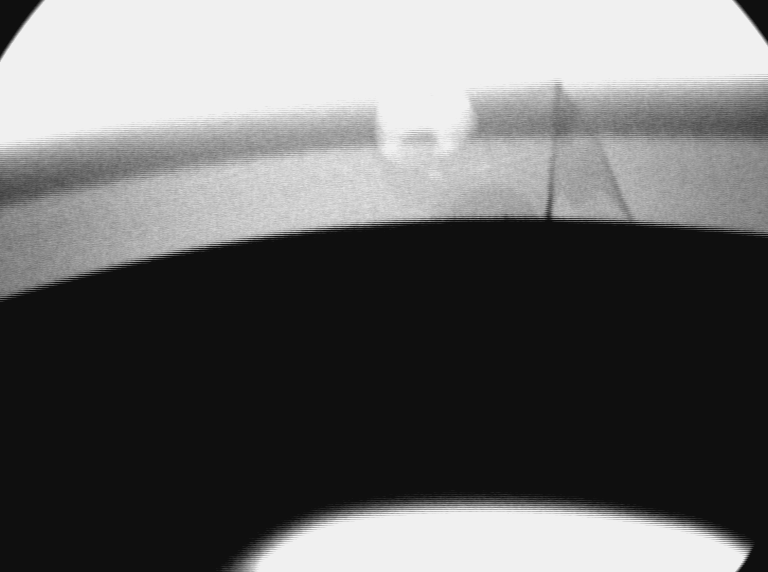defect: (475, 157, 498, 176)
